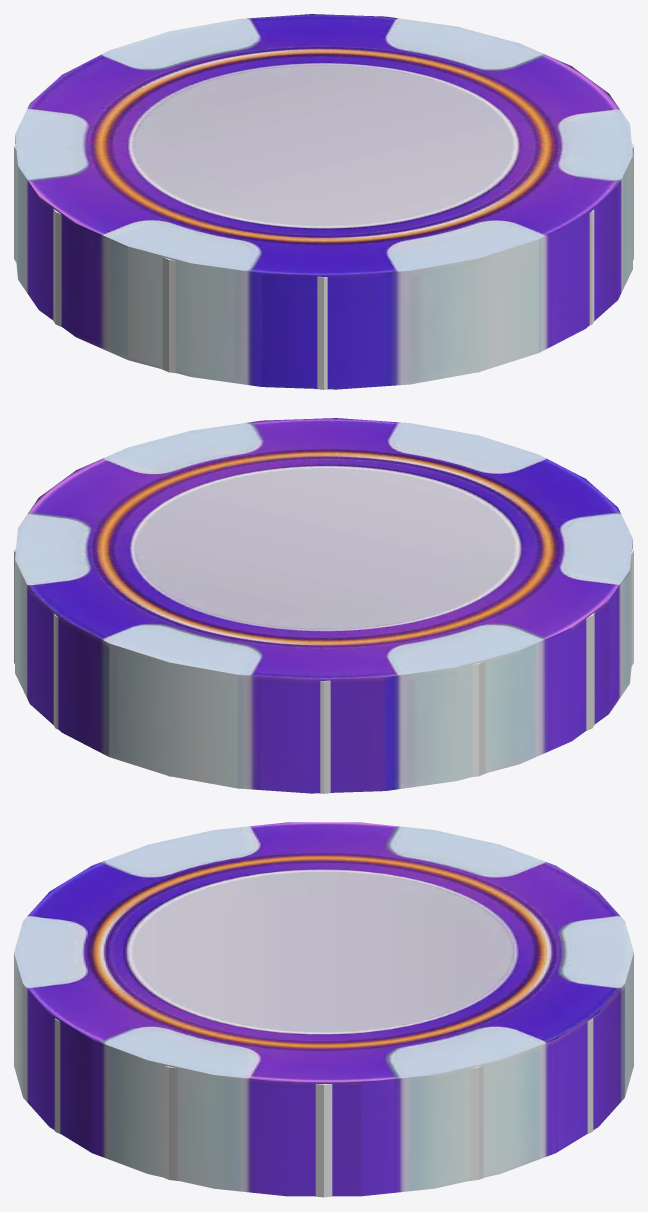
File: Casino_Coin_2.fbx
The picture shows the model from 3 angles, top to bottom: view 1: azimuth 30°, elevation 25°; view 2: azimuth 150°, elevation 25°; view 3: azimuth 270°, elevation 25°; orthographic projection.
Visible parts, largest first — view 1: Cylinder.001, Cylinder; view 2: Cylinder.001, Cylinder; view 3: Cylinder.001, Cylinder.
Part boxes in pixels (left/top/right/bottom): Cylinder.001: left=15, top=14, right=632, bottom=389; Cylinder: left=14, top=144, right=633, bottom=389; Cylinder.001: left=15, top=418, right=632, bottom=793; Cylinder: left=14, top=548, right=633, bottom=793; Cylinder.001: left=14, top=822, right=633, bottom=1196; Cylinder: left=54, top=1018, right=593, bottom=1197.
Bounding box in the file's own units: 200 × 40.58 × 200.
